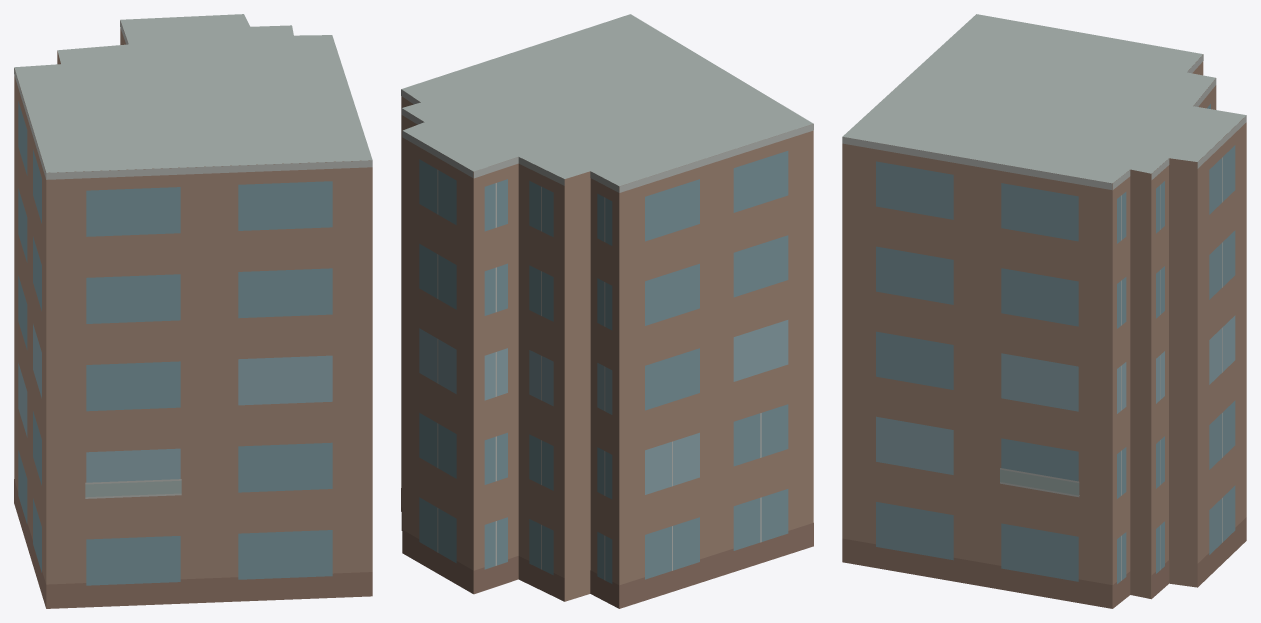
File: survey-upis-32987506.glb
3 views of the same model, side by side, from view 1: azimuth 30°, elevation 25°; view 2: azimuth 150°, elevation 25°; view 3: azimuth 270°, elevation 25° (orthographic). The views are drawn at different scales.
Parts seen in each view (by area): view 1: survey-upis-32987506.tmp; view 2: survey-upis-32987506.tmp; view 3: survey-upis-32987506.tmp.
Part boxes in pixels (x1,y1,x2,y2): survey-upis-32987506.tmp: (14,14,372,608); survey-upis-32987506.tmp: (401,14,813,608); survey-upis-32987506.tmp: (842,14,1246,608).
Bounding box in the file's own units: 12.99 × 15.2 × 13.1.
